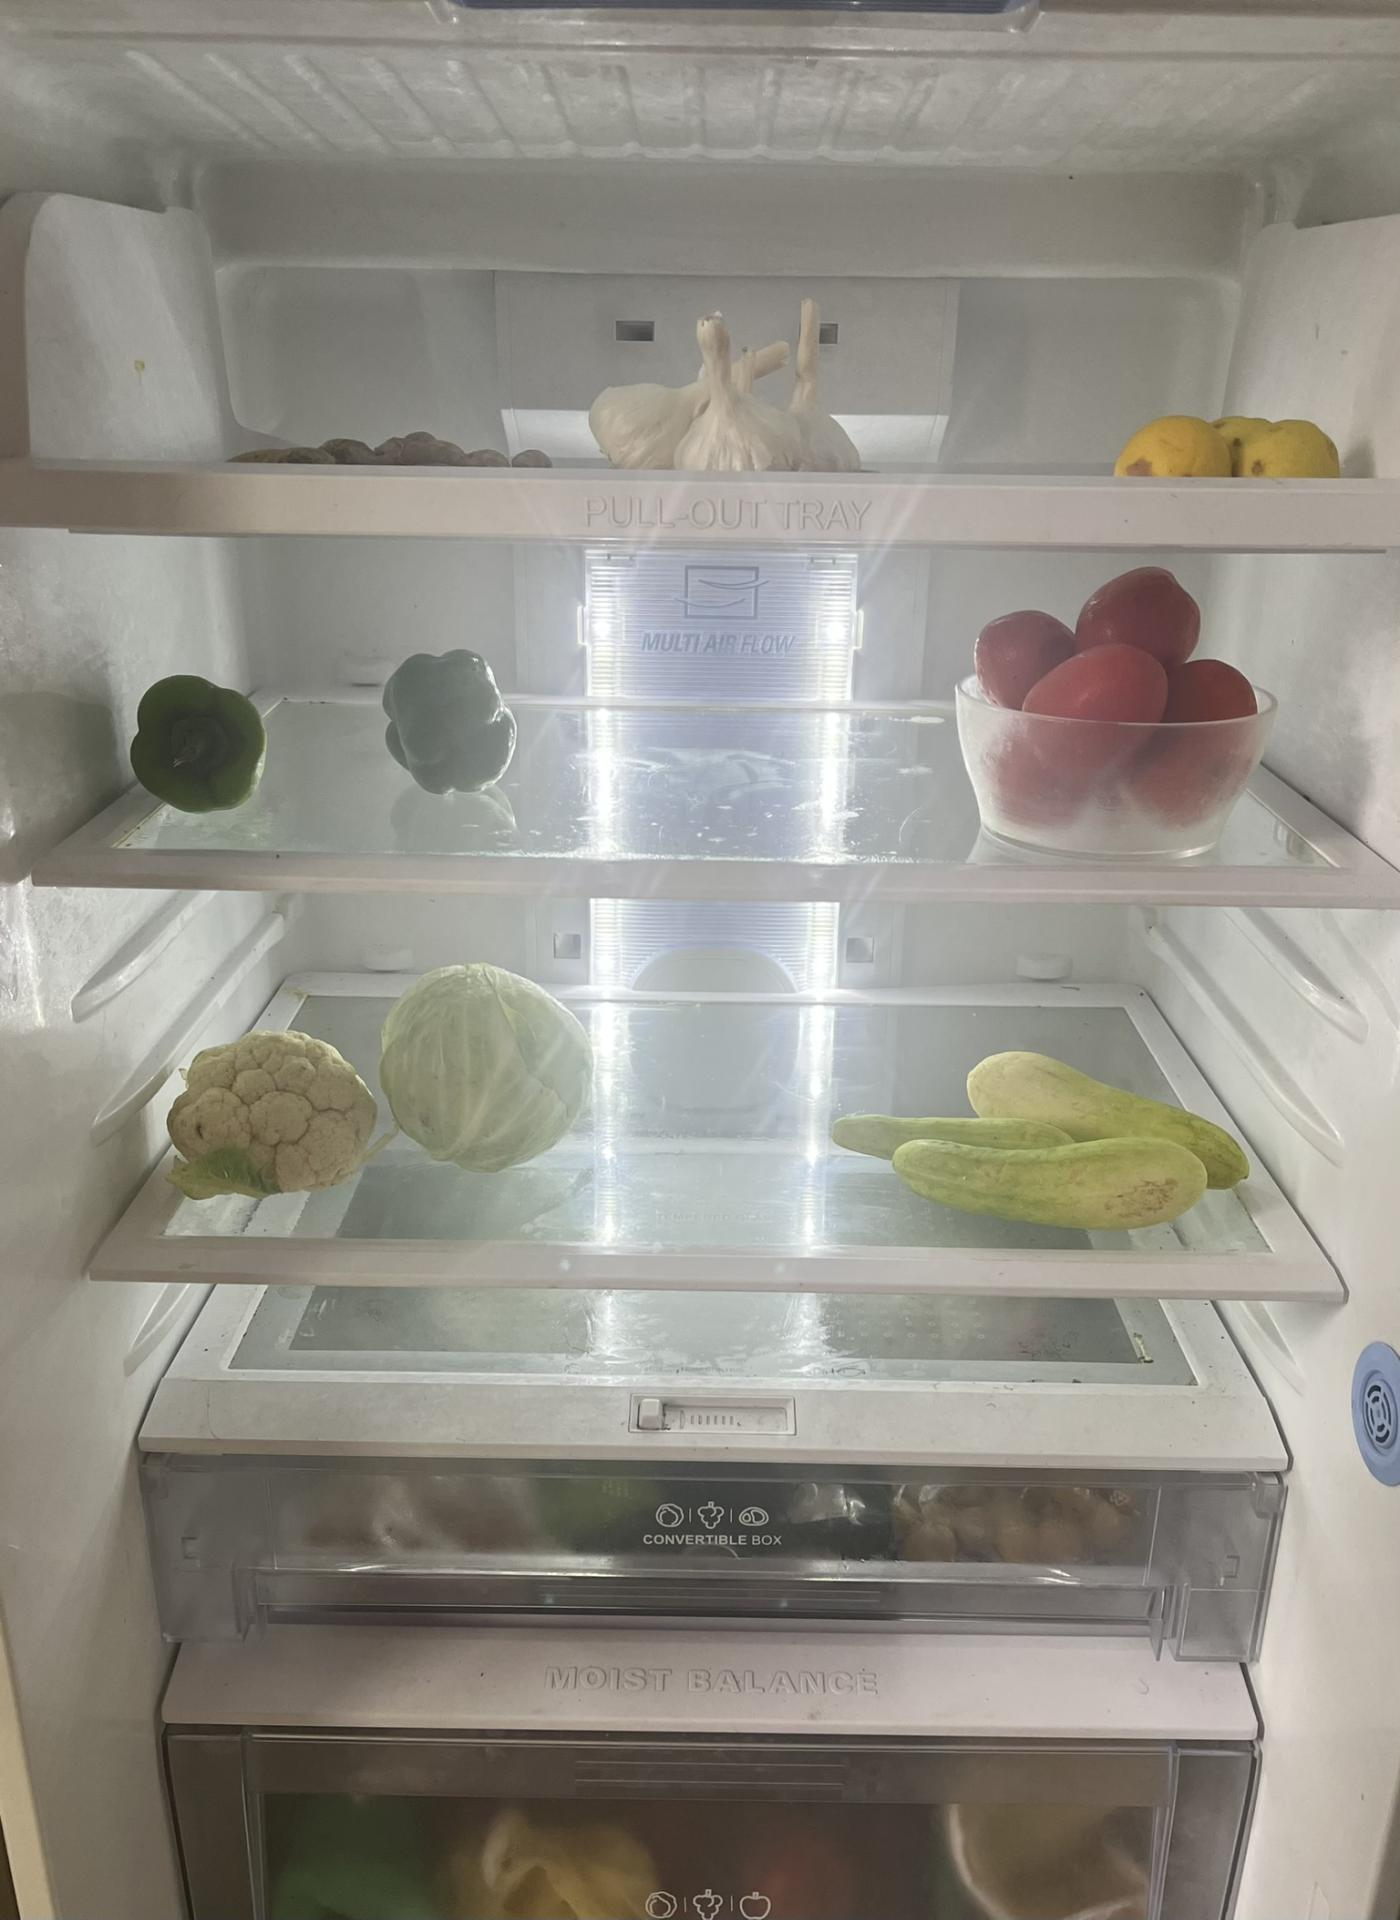cabbage: (374, 969, 598, 1166)
capsicum: (374, 650, 522, 803), (134, 665, 273, 818)
cauliflower: (170, 1026, 383, 1206)
cucumber: (826, 1040, 1255, 1231)
garlic: (583, 291, 875, 473)
ginger: (207, 434, 553, 468)
lemon: (1112, 405, 1343, 479)
tomato: (972, 562, 1258, 838)
